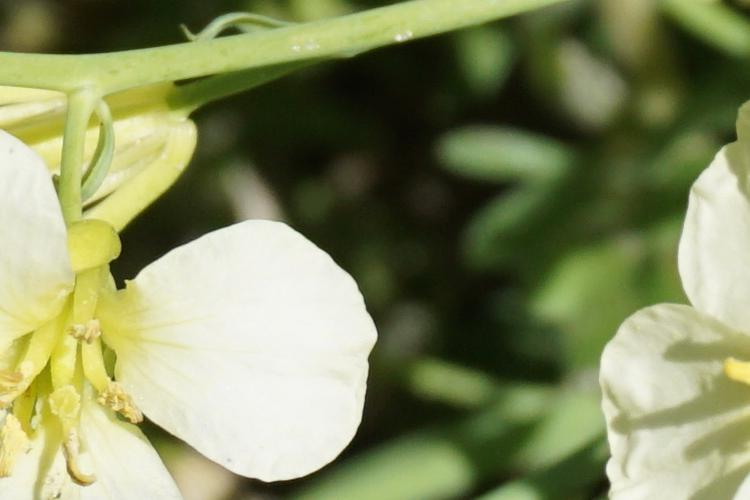white: (4, 124, 389, 490), (599, 165, 750, 495)
